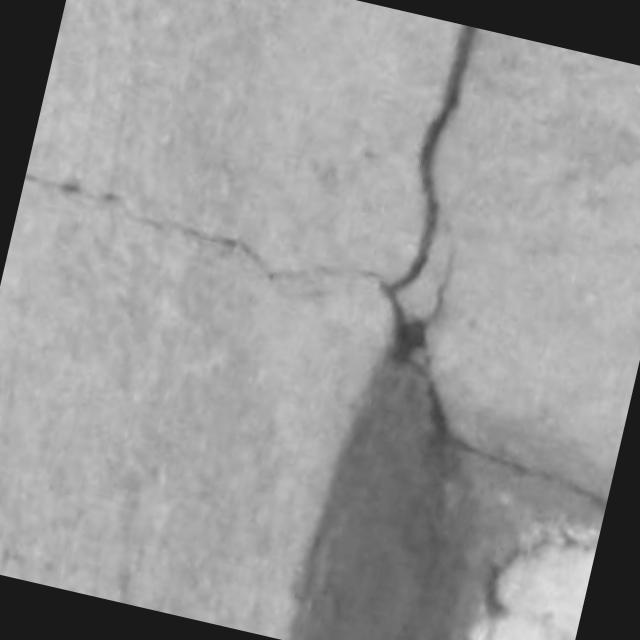crack: (290, 322, 466, 640), (24, 171, 381, 283), (385, 25, 477, 329), (450, 432, 608, 512)
